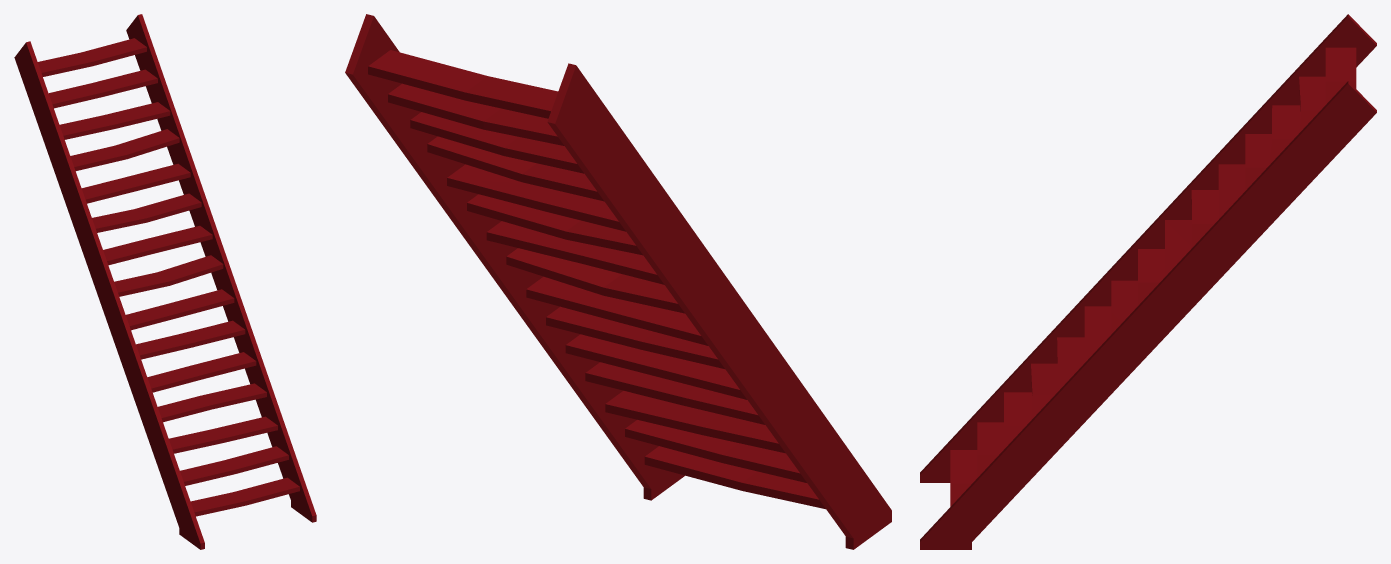
Rendered from SM_MH_01_Wood_Stairs_01.fbx.
The picture shows the model from 3 angles, left to right: view 1: azimuth 30°, elevation 25°; view 2: azimuth 150°, elevation 25°; view 3: azimuth 270°, elevation 25°; orthographic projection. The views are drawn at different scales.
Parts seen in each view (by area): view 1: SM_MH_01_Wood_Stairs_01_LOD0; view 2: SM_MH_01_Wood_Stairs_01_LOD0; view 3: SM_MH_01_Wood_Stairs_01_LOD0.
Part boxes in pixels (x1,y1,x2,y2): SM_MH_01_Wood_Stairs_01_LOD0: (14, 14, 316, 549); SM_MH_01_Wood_Stairs_01_LOD0: (345, 14, 891, 549); SM_MH_01_Wood_Stairs_01_LOD0: (920, 14, 1376, 549).
Size of what is drawn, in the model's own units: 108 by 338 by 300.
